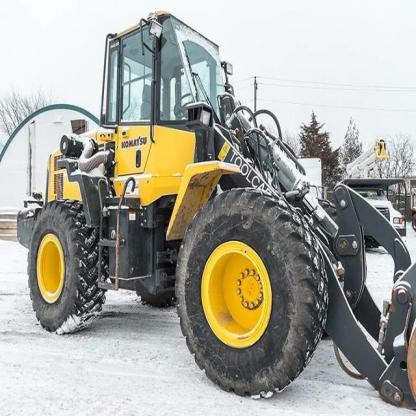bull_dozer/loader/grader: (12, 7, 416, 415)
